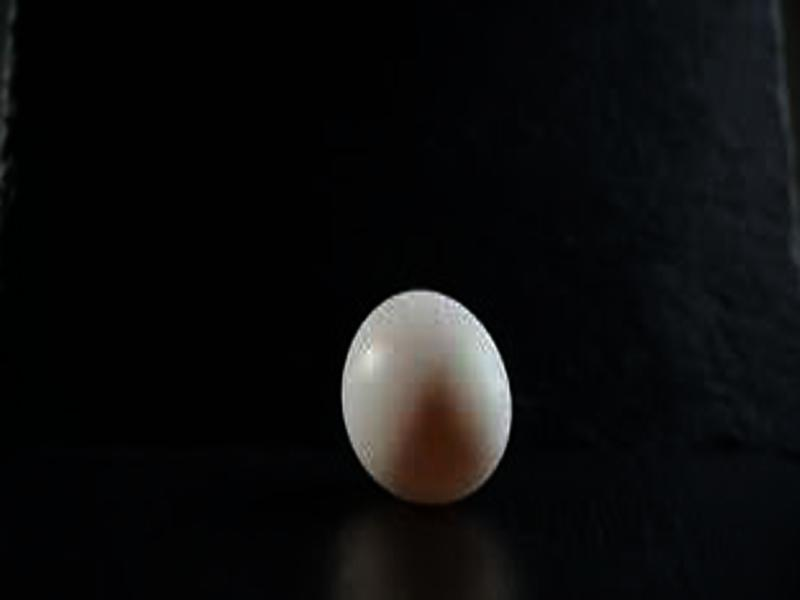Eggs: (342, 283, 513, 504)
